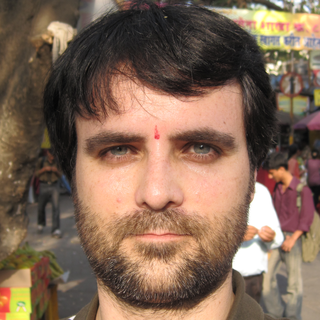eye: (173, 138, 227, 165), (88, 139, 143, 165)
